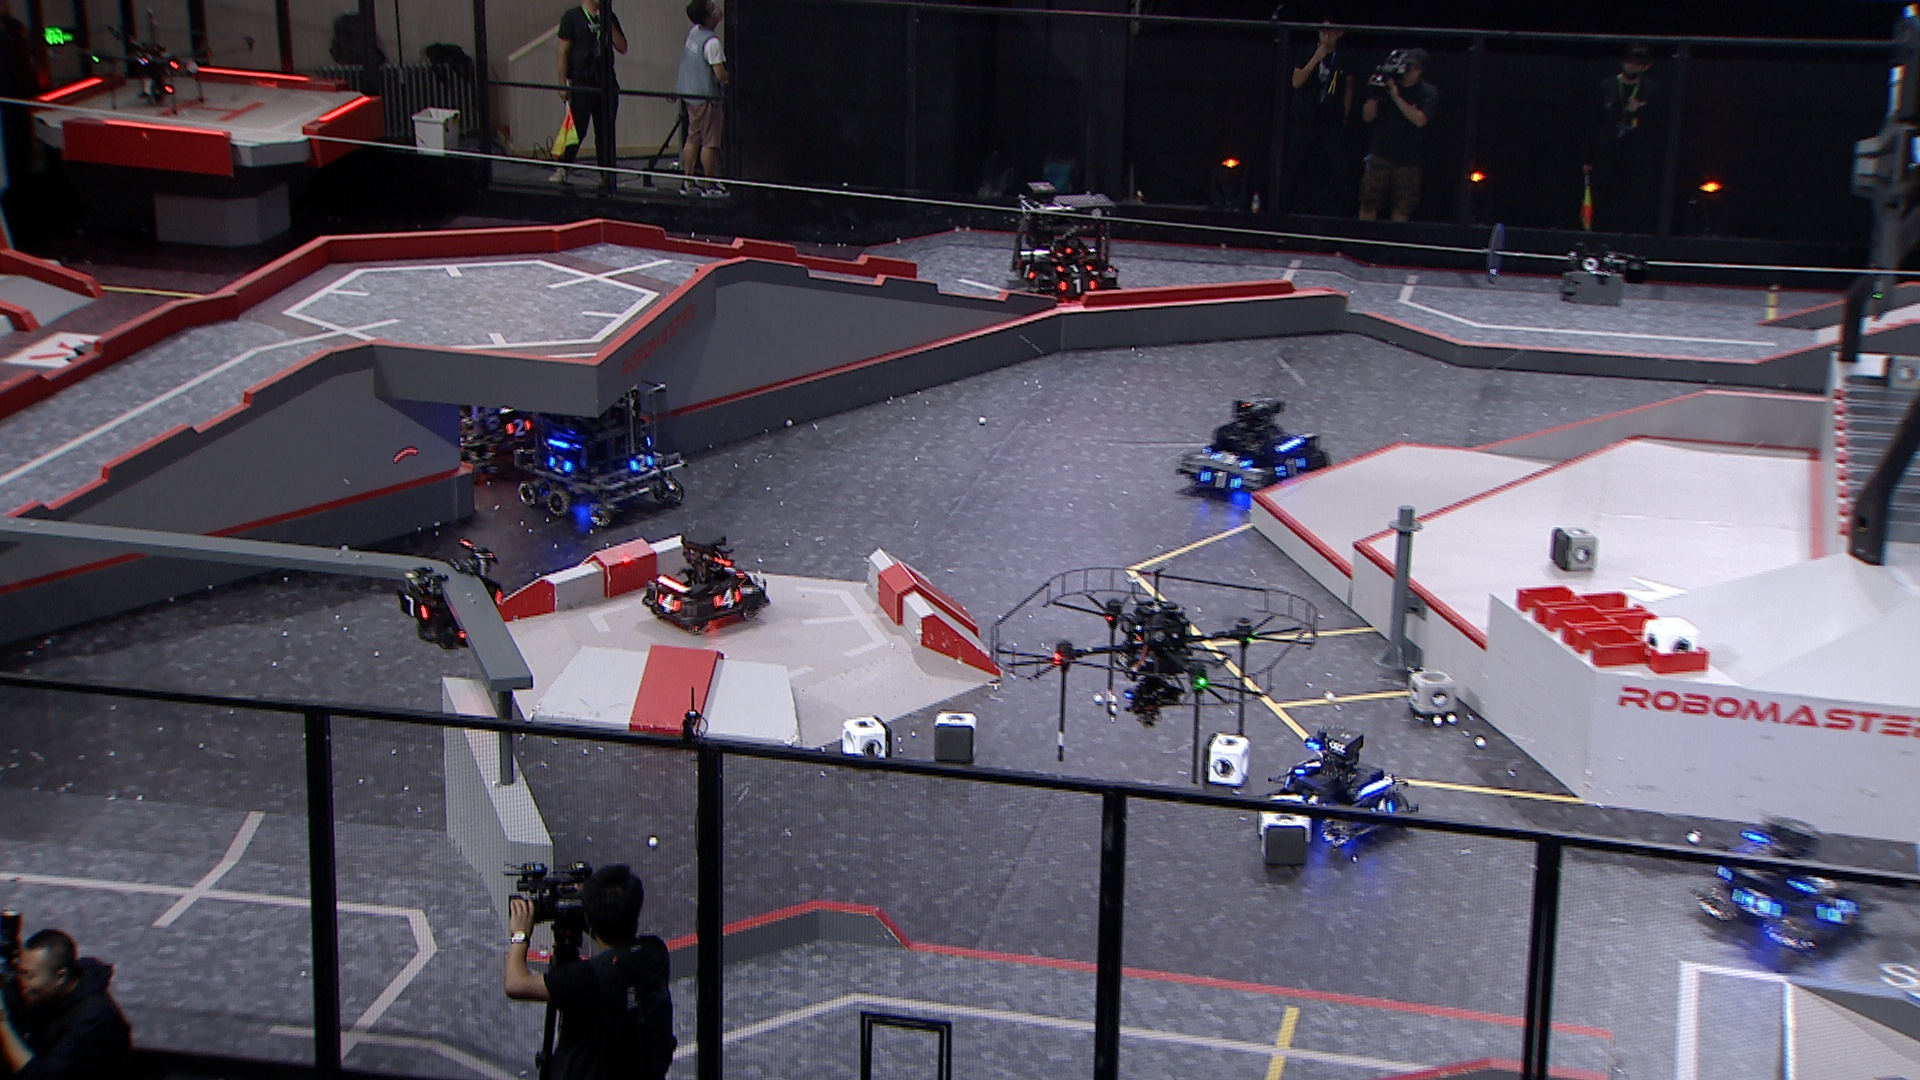armor: (1733, 885, 1788, 920), (1822, 895, 1861, 928), (396, 589, 433, 622), (1199, 467, 1245, 493), (1273, 454, 1309, 483), (1787, 872, 1832, 895), (1211, 450, 1253, 469), (712, 585, 742, 611), (1058, 277, 1098, 295), (502, 418, 535, 439), (655, 593, 684, 617), (1291, 756, 1323, 777), (547, 455, 575, 477), (628, 455, 655, 475), (1367, 796, 1396, 815), (1054, 262, 1093, 276), (721, 564, 746, 580), (1015, 261, 1035, 281)
car: (1691, 814, 1880, 949), (518, 384, 686, 527), (415, 343, 562, 481), (1258, 728, 1422, 847), (1178, 394, 1335, 502), (637, 527, 771, 633), (1007, 193, 1120, 306)
watcher: (394, 538, 504, 647)
